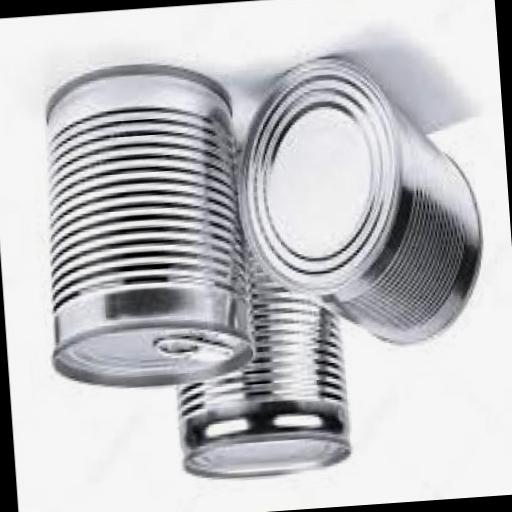metal: (232, 45, 492, 360), (32, 62, 258, 394), (158, 144, 356, 486)
